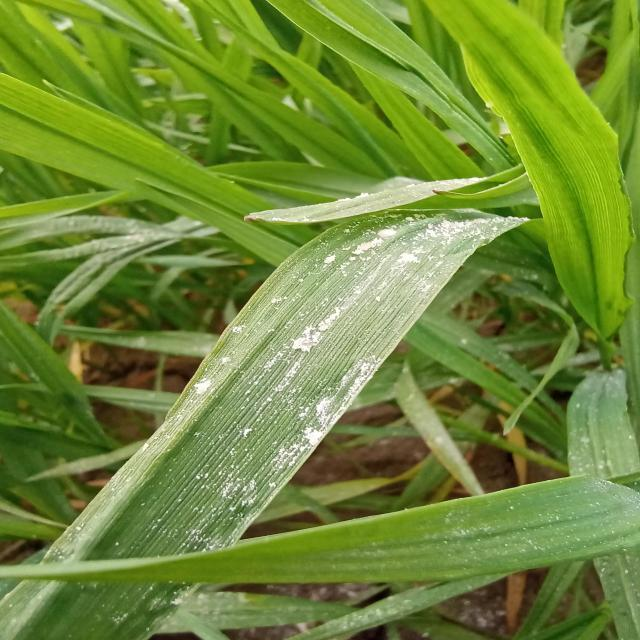Powdery Mildew: (3, 220, 528, 640), (337, 476, 638, 598)
